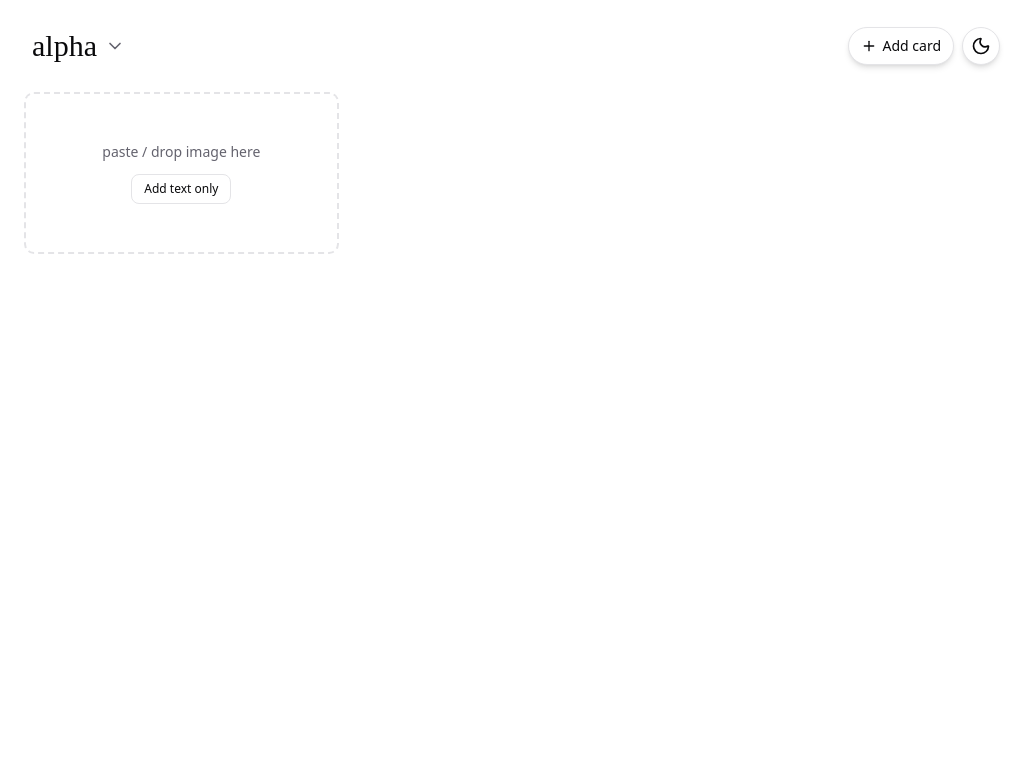
the theme › shows a moon to offer the dark mode and a sun to offer the light one
Expected: the button with aria-label "Brand" reads "alpha", [24, 24, 133, 68]
Expected: the icon with class "lucide-moon" is shown, [971, 36, 991, 56]
Click the button named "Switch to dark mode" at (981,46), box [962, 27, 1000, 65]
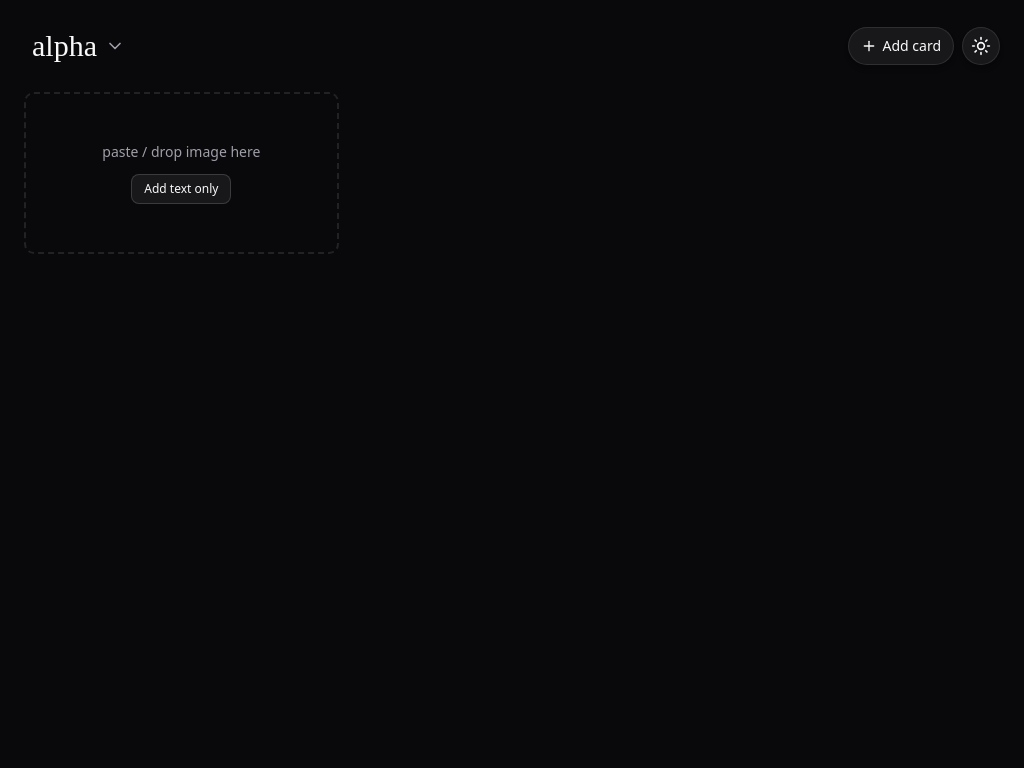
Result: the icon with class "lucide-sun" is shown at [971, 36, 991, 56]
Result: the icon with class "lucide-moon" is gone
